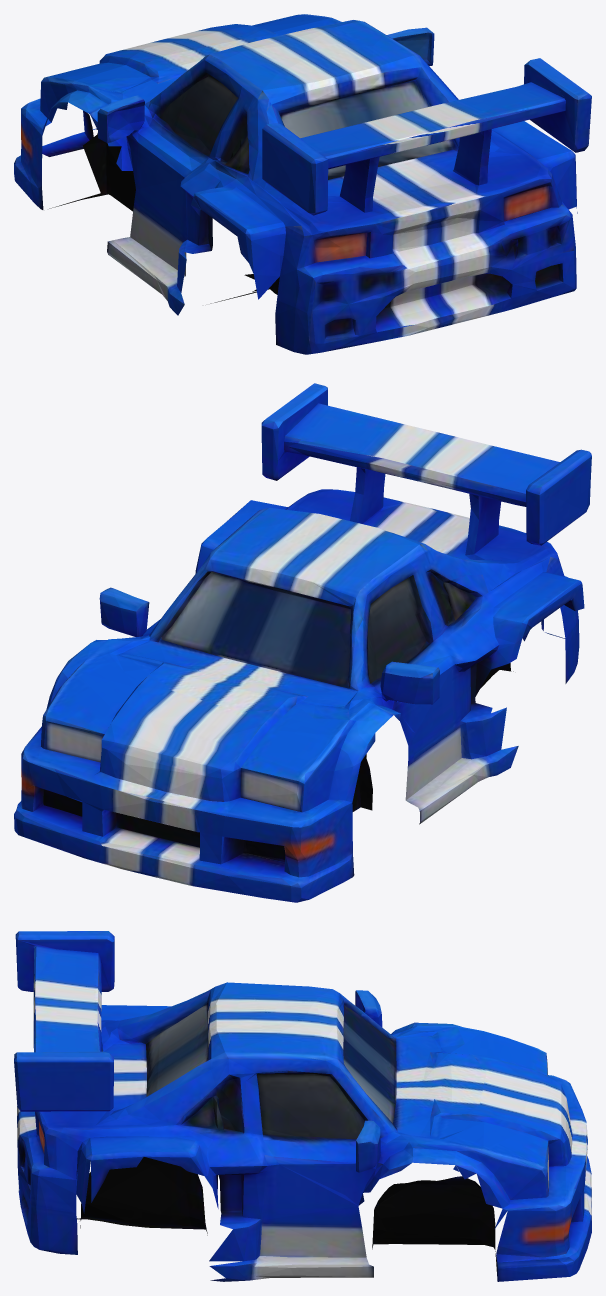
Rendered from cs_v_sportiva.glb.
3 views of the same model, one above another, from view 1: azimuth 30°, elevation 25°; view 2: azimuth 150°, elevation 25°; view 3: azimuth 270°, elevation 25° (orthographic). The views are drawn at different scales.
Visible parts, largest first — view 1: v_sportiva; view 2: v_sportiva; view 3: v_sportiva.
Boxes of the visible parts, x1,y1,x2,y2 form: v_sportiva: (14,14,591,354); v_sportiva: (14,383,591,902); v_sportiva: (14,931,591,1281).
Bounding box in the file's own units: 2.2 × 1.67 × 3.5.
1 material, 1 textured.
